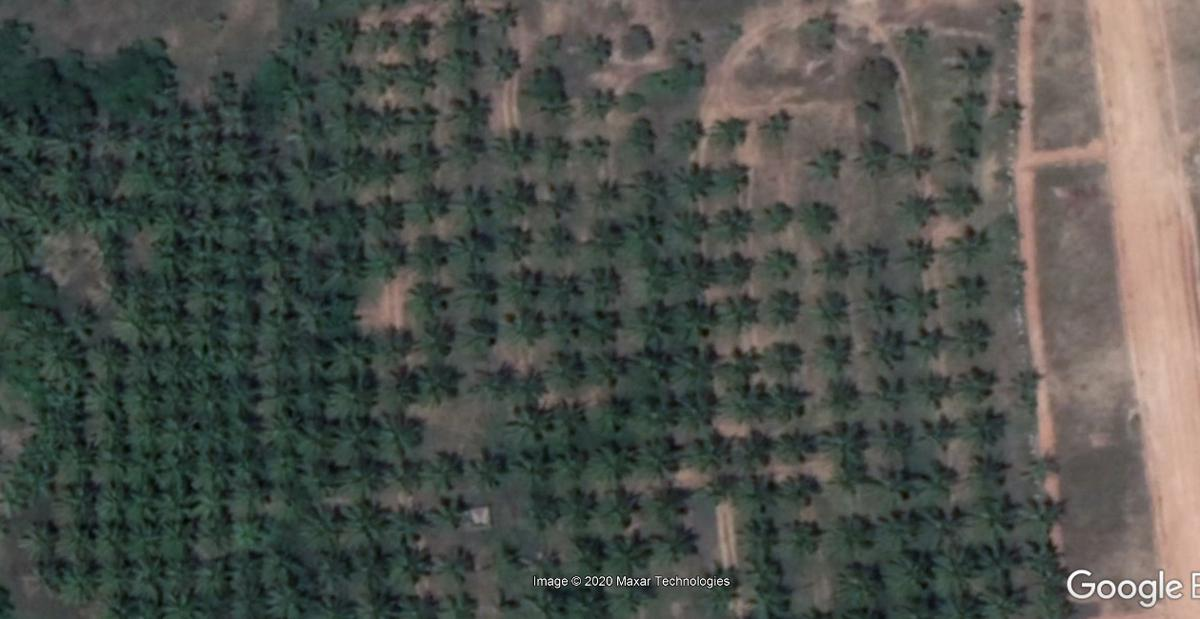coconut: (47, 117, 99, 170), (36, 327, 84, 381), (384, 530, 432, 583), (727, 427, 779, 472), (362, 192, 406, 243), (588, 440, 638, 484), (967, 491, 1019, 533), (860, 322, 905, 370), (373, 408, 424, 450), (540, 344, 591, 385), (448, 226, 494, 270), (944, 83, 994, 123), (137, 266, 187, 306), (953, 42, 1007, 79), (414, 361, 458, 406), (832, 562, 881, 601), (672, 386, 717, 428), (324, 103, 369, 145), (653, 520, 701, 559), (55, 562, 100, 603), (971, 536, 1017, 576), (721, 339, 761, 385), (356, 241, 402, 281), (724, 389, 776, 424), (879, 459, 926, 497), (320, 59, 360, 103), (672, 251, 717, 290), (608, 522, 647, 567), (368, 146, 413, 185), (636, 433, 682, 471), (496, 172, 533, 219), (405, 182, 452, 219), (321, 380, 363, 421), (761, 336, 804, 376), (592, 393, 635, 433), (21, 196, 60, 240), (258, 580, 302, 619), (55, 479, 100, 517), (775, 425, 817, 465), (501, 404, 549, 439), (872, 416, 915, 455), (710, 203, 754, 241), (889, 543, 935, 579), (938, 180, 980, 219), (671, 151, 708, 195), (88, 341, 132, 378), (966, 452, 1012, 487), (823, 420, 865, 458), (468, 443, 506, 485), (119, 381, 161, 419), (717, 292, 763, 326), (675, 341, 714, 381), (550, 395, 590, 434), (590, 347, 628, 388), (738, 513, 780, 550), (340, 495, 377, 537), (543, 181, 577, 226), (917, 406, 957, 444), (781, 514, 821, 552), (192, 559, 230, 599), (941, 273, 987, 306), (769, 384, 806, 425), (945, 227, 987, 263), (978, 579, 1025, 611), (775, 471, 820, 504), (486, 539, 525, 577), (635, 386, 672, 426), (801, 144, 843, 179), (428, 495, 472, 528), (586, 304, 625, 341), (80, 193, 119, 230), (876, 371, 908, 416), (555, 441, 595, 477), (447, 86, 487, 122), (523, 488, 559, 528), (413, 321, 453, 357), (149, 204, 189, 240), (893, 234, 935, 268), (922, 502, 960, 539), (763, 286, 801, 323), (665, 54, 702, 92), (550, 268, 587, 306), (588, 259, 624, 298), (398, 56, 437, 92), (501, 262, 541, 297), (440, 4, 480, 39), (879, 503, 920, 537), (662, 207, 704, 240), (694, 428, 727, 470), (447, 129, 484, 166), (474, 362, 511, 399), (821, 374, 859, 410), (624, 113, 660, 151), (182, 488, 220, 524), (736, 473, 775, 508), (212, 137, 251, 172), (506, 300, 546, 334), (407, 229, 447, 263), (211, 208, 245, 248), (381, 594, 442, 616), (857, 136, 894, 172), (854, 244, 891, 280), (551, 304, 587, 341), (121, 530, 159, 565), (712, 251, 751, 285), (560, 483, 599, 517), (511, 444, 550, 478), (213, 104, 249, 140), (897, 145, 934, 180), (580, 34, 617, 69), (834, 508, 872, 542), (902, 286, 941, 319), (583, 216, 627, 245), (709, 116, 745, 151), (678, 300, 714, 335), (629, 293, 671, 323), (625, 326, 667, 356), (429, 448, 465, 483), (761, 247, 798, 281), (649, 479, 686, 513), (368, 103, 405, 137), (284, 19, 317, 57), (403, 7, 435, 46), (758, 199, 793, 234), (409, 140, 444, 175), (321, 17, 356, 52), (1030, 496, 1066, 530), (820, 329, 854, 365), (641, 252, 675, 288), (499, 126, 533, 162), (1024, 538, 1066, 567), (717, 159, 749, 197), (542, 229, 582, 259), (956, 369, 991, 403), (950, 315, 986, 348), (813, 245, 849, 278), (437, 542, 474, 574), (401, 97, 438, 129), (911, 326, 949, 357), (459, 179, 488, 219), (217, 282, 251, 316), (219, 349, 252, 384), (964, 408, 1000, 440), (860, 284, 896, 316), (804, 199, 836, 235), (573, 530, 605, 566), (260, 454, 304, 480), (543, 129, 573, 167), (407, 280, 440, 314), (916, 373, 953, 403), (893, 192, 933, 219), (894, 591, 934, 618), (928, 459, 961, 491), (898, 26, 937, 53), (388, 367, 418, 402), (377, 326, 406, 362), (214, 248, 250, 277), (617, 579, 655, 606), (760, 109, 789, 144), (582, 84, 614, 115), (817, 289, 850, 319), (496, 226, 529, 256), (625, 211, 659, 240), (629, 172, 664, 200), (218, 318, 254, 344), (580, 131, 610, 162), (369, 23, 400, 52), (671, 116, 701, 145), (367, 58, 397, 87), (491, 3, 523, 30), (592, 176, 624, 201), (218, 179, 246, 207), (949, 140, 978, 166)
